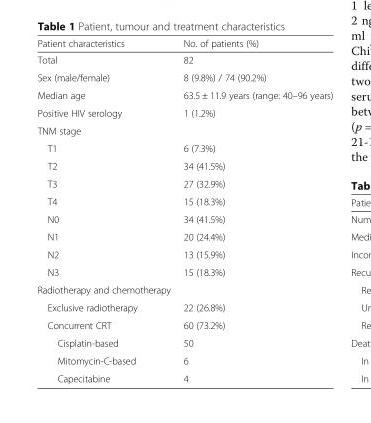table: (36, 37, 332, 383)
table column: (159, 37, 332, 383), (36, 37, 159, 383)
table column header: (36, 37, 332, 51)
table projected row header: (36, 121, 332, 139), (36, 280, 332, 298)
table row: (36, 68, 332, 86), (36, 103, 332, 121), (36, 121, 332, 139), (36, 156, 332, 174), (36, 174, 332, 192), (36, 209, 332, 227), (36, 227, 332, 245), (36, 262, 332, 280), (36, 280, 332, 298), (36, 298, 332, 316), (36, 333, 332, 351), (36, 351, 332, 369), (36, 51, 332, 68), (36, 86, 332, 103), (36, 139, 332, 156), (36, 192, 332, 209), (36, 245, 332, 262), (36, 316, 332, 333), (36, 37, 332, 51), (36, 369, 332, 383)
